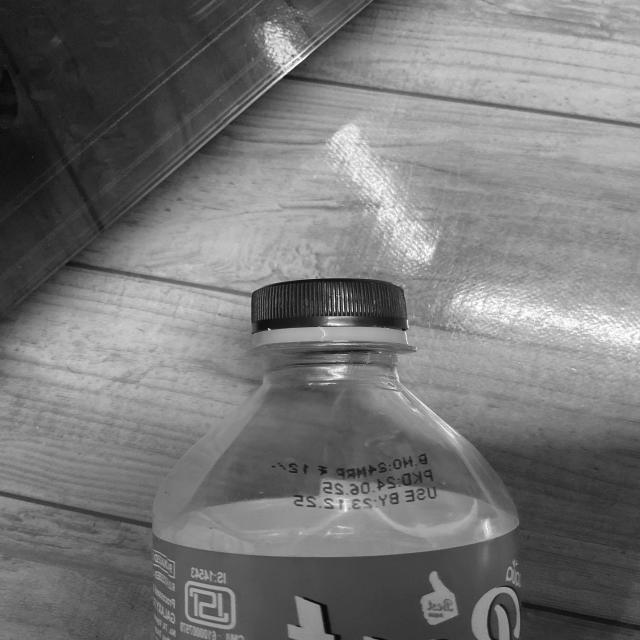Good-cap-Df0S: (239, 268, 417, 354)
